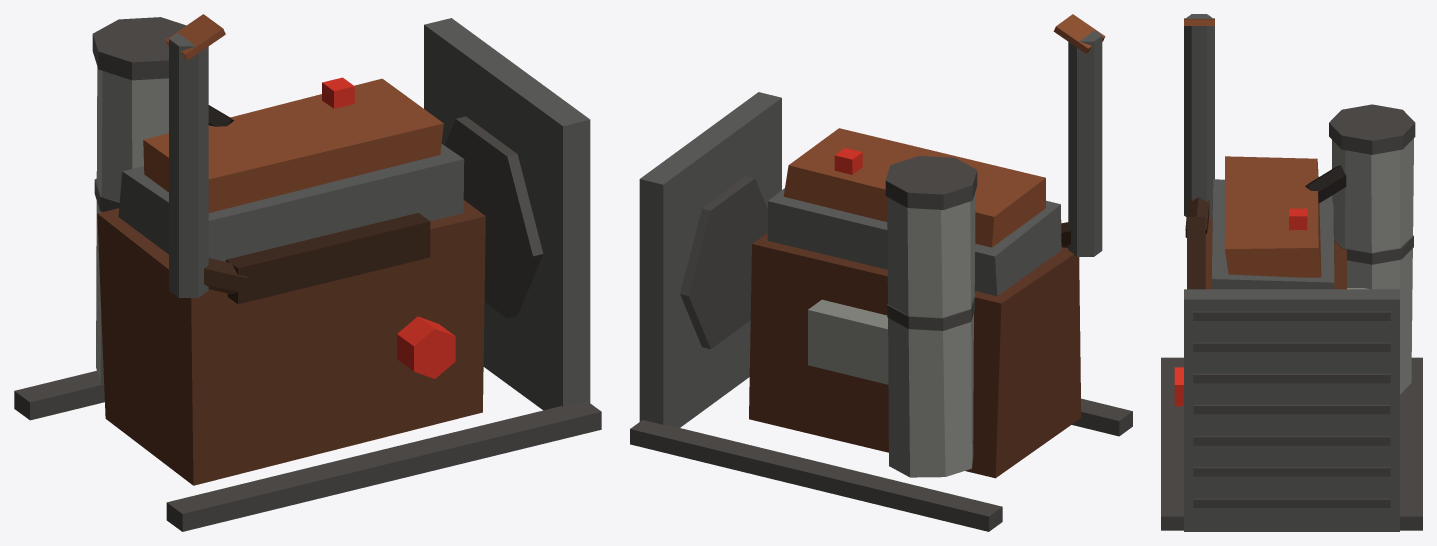
File: eng_workhorse_diesel.glb
The picture shows the model from 3 angles, left to right: view 1: azimuth 30°, elevation 25°; view 2: azimuth 150°, elevation 25°; view 3: azimuth 270°, elevation 25°; orthographic projection. The views are drawn at different scales.
Visible parts, largest first — view 1: eng_workhorse_diesel; view 2: eng_workhorse_diesel; view 3: eng_workhorse_diesel.
Boxes of the visible parts, left/top/right/bottom form: eng_workhorse_diesel: left=14, top=14, right=601, bottom=531; eng_workhorse_diesel: left=630, top=14, right=1132, bottom=531; eng_workhorse_diesel: left=1161, top=14, right=1422, bottom=531.
Bounding box in the file's own units: 1.24 × 1.33 × 0.848.
